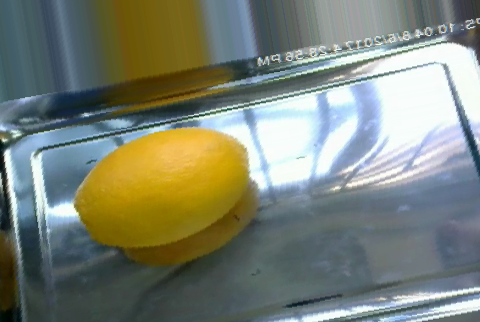Orange: (73, 127, 248, 250)
